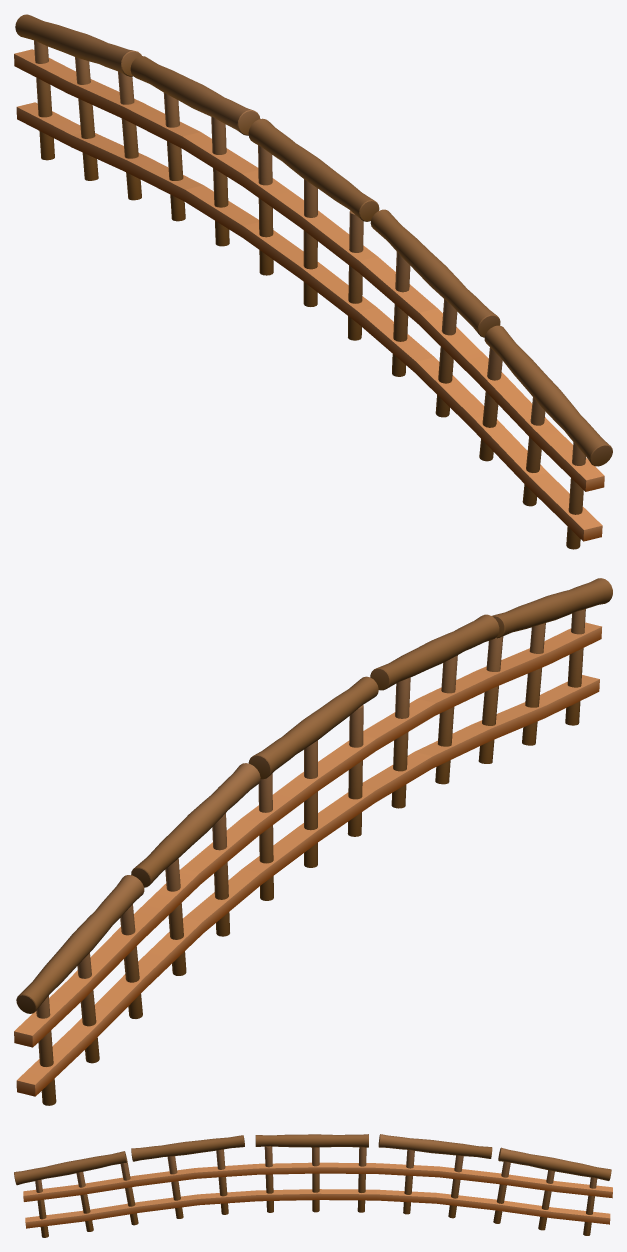
The model's file is SM_HolzbrueckeBroken_Gelaender.fbx.
3 views of the same model, one above another, from view 1: azimuth 30°, elevation 25°; view 2: azimuth 150°, elevation 25°; view 3: azimuth 270°, elevation 25° (orthographic). The views are drawn at different scales.
Parts seen in each view (by area): view 1: SM_HolzbrueckeBroken_Gelaender; view 2: SM_HolzbrueckeBroken_Gelaender; view 3: SM_HolzbrueckeBroken_Gelaender.
Part boxes in pixels (x1,y1,x2,y2): SM_HolzbrueckeBroken_Gelaender: [14, 14, 612, 549]; SM_HolzbrueckeBroken_Gelaender: [14, 578, 612, 1105]; SM_HolzbrueckeBroken_Gelaender: [14, 1134, 612, 1237].
Size of the model in its own units: 32.4 by 257 by 1365.
